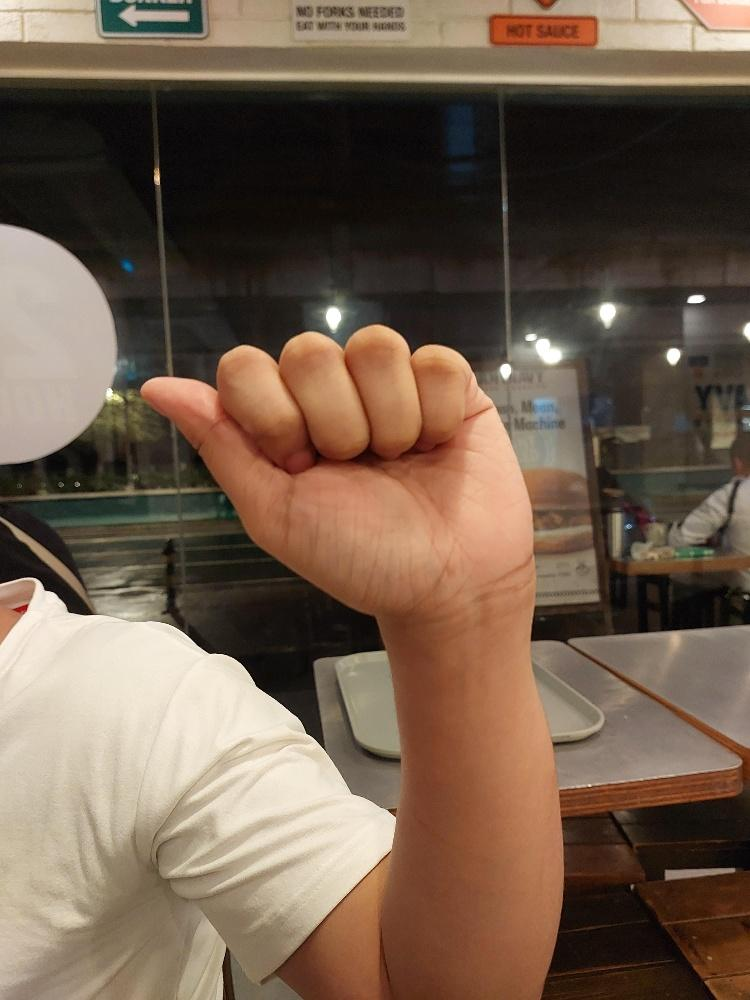a: (136, 319, 535, 626)
